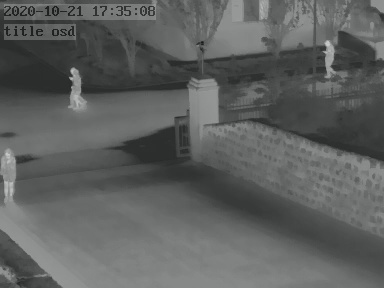person: (1, 147, 18, 205), (67, 66, 85, 108), (322, 38, 337, 78)
